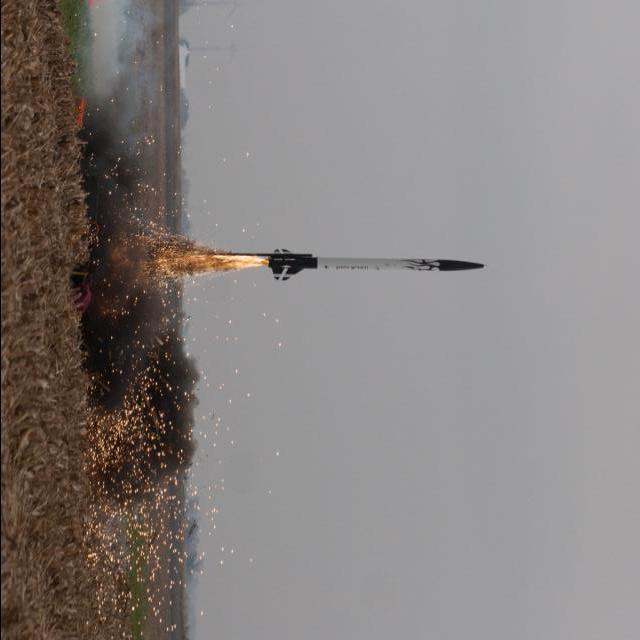Missile: (266, 245, 487, 283)
